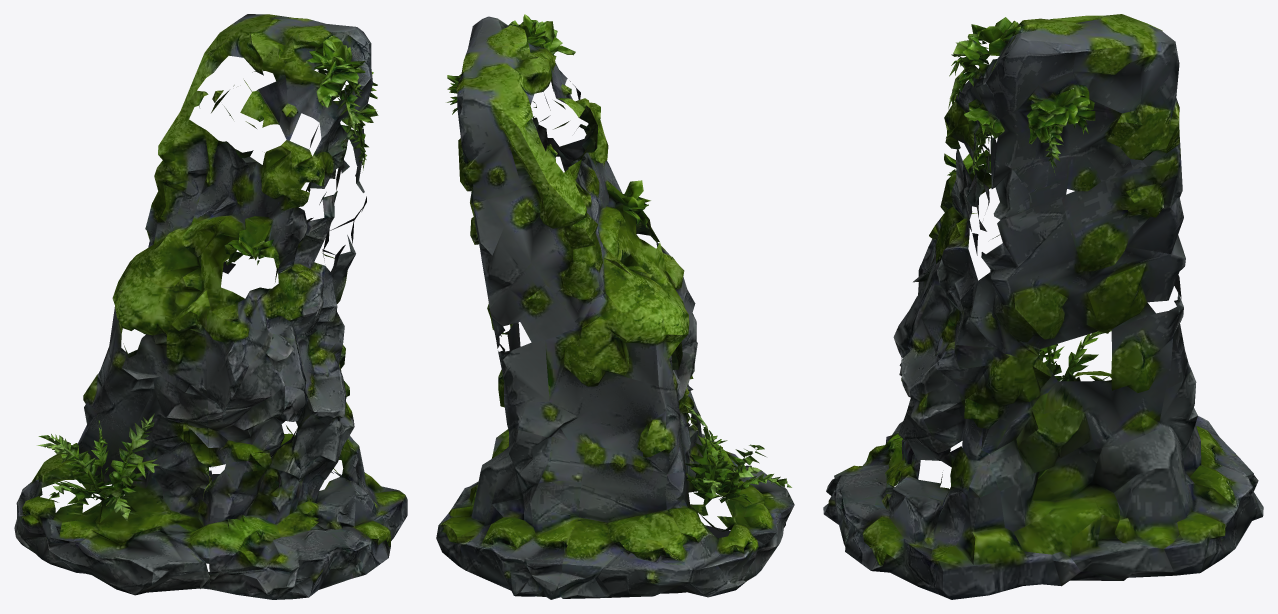
The model's file is tripo-rocha-musgo154.glb.
3 renders of one model, left to right at view 1: azimuth 30°, elevation 25°; view 2: azimuth 150°, elevation 25°; view 3: azimuth 270°, elevation 25°, orthographic. The views are drawn at different scales.
Visible parts, largest first — view 1: tripo_node_0baa212f-4e2b-424e-90dc-d1899b0a7e39; view 2: tripo_node_0baa212f-4e2b-424e-90dc-d1899b0a7e39; view 3: tripo_node_0baa212f-4e2b-424e-90dc-d1899b0a7e39.
Part boxes in pixels (x1,y1,x2,y2): tripo_node_0baa212f-4e2b-424e-90dc-d1899b0a7e39: [14, 14, 407, 599]; tripo_node_0baa212f-4e2b-424e-90dc-d1899b0a7e39: [436, 14, 794, 599]; tripo_node_0baa212f-4e2b-424e-90dc-d1899b0a7e39: [823, 14, 1263, 599].
Bounding box in the file's own units: 0.7273 × 0.9782 × 0.7062.
1 material, 1 textured.
